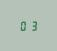three: (28, 20, 36, 30)
zero: (19, 20, 27, 31)
